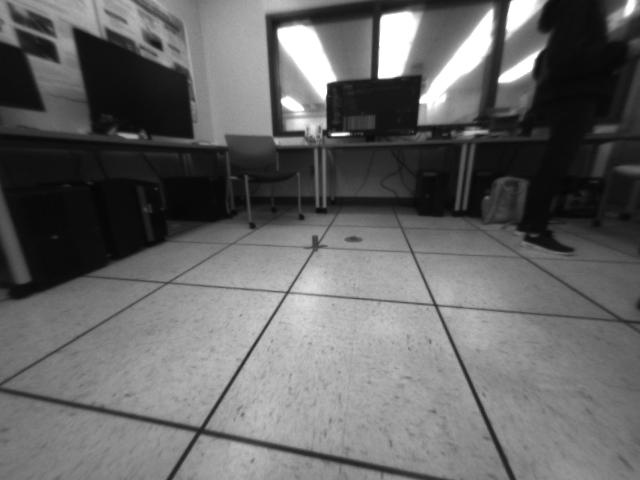X: (302, 234, 330, 253)
